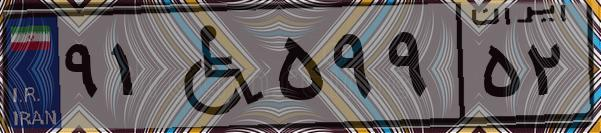1: (110, 28, 158, 98)
2: (525, 38, 570, 115)
5: (270, 28, 330, 110), (475, 38, 525, 113)
9: (385, 28, 445, 110), (330, 28, 385, 110), (57, 26, 110, 100)
ژ (معلولین و جانبازان): (158, 12, 270, 120)
